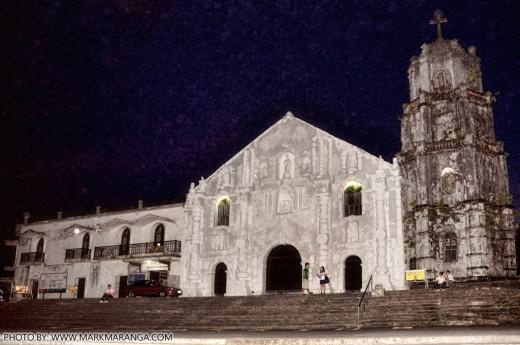daraga_church_daraga_albay: (184, 7, 518, 291)
